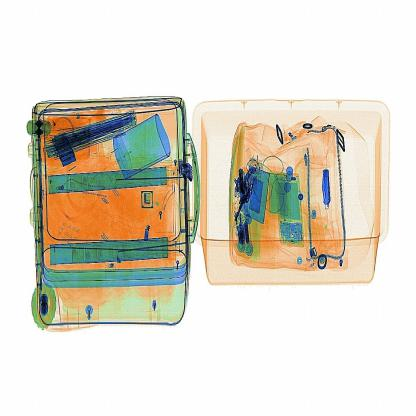knife: (319, 159, 339, 222)
